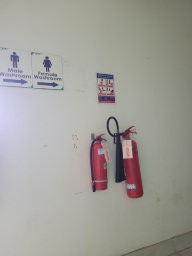fire_extinguisher: (43, 142, 104, 191), (43, 161, 97, 191), (48, 119, 92, 146)
